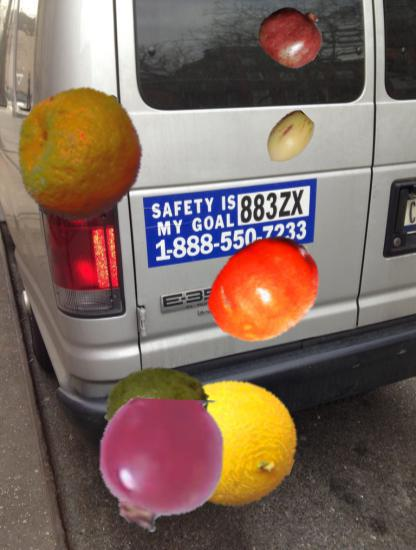Cantaloupe: (162, 375, 297, 510)
Clementine: (205, 226, 329, 350)
Guava: (104, 356, 211, 463)
Mandarine: (9, 85, 147, 223)
Pepino: (260, 109, 318, 167)
Pomegranate: (260, 4, 324, 68)
Redcurrant: (94, 399, 228, 533)
